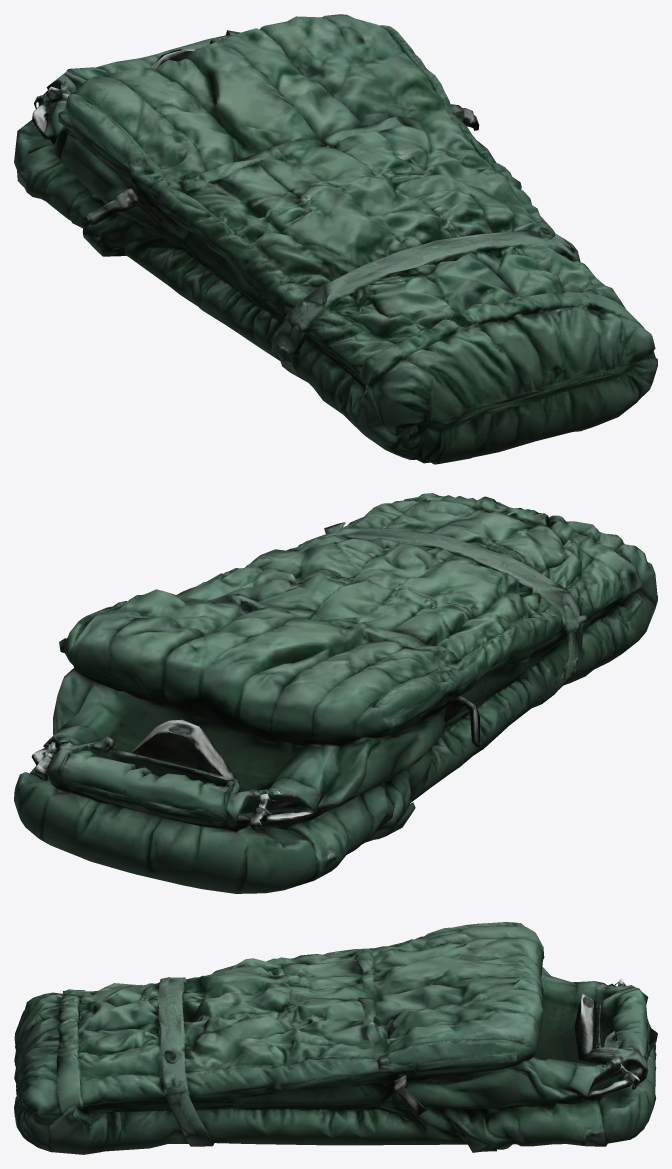
The model's file is sleeping-bag.glb.
The picture shows the model from 3 angles, top to bottom: view 1: azimuth 30°, elevation 25°; view 2: azimuth 150°, elevation 25°; view 3: azimuth 270°, elevation 25°; orthographic projection. The views are drawn at different scales.
Visible parts, largest first — view 1: node_b35f26c7-6c59-4eba-bc4c-ee1f369184f0; view 2: node_b35f26c7-6c59-4eba-bc4c-ee1f369184f0; view 3: node_b35f26c7-6c59-4eba-bc4c-ee1f369184f0.
Part boxes in pixels (<box>): node_b35f26c7-6c59-4eba-bc4c-ee1f369184f0: <box>14,14,657,464</box>; node_b35f26c7-6c59-4eba-bc4c-ee1f369184f0: <box>14,493,657,893</box>; node_b35f26c7-6c59-4eba-bc4c-ee1f369184f0: <box>14,922,657,1154</box>.
Size of the model in its own units: 0.549 by 0.2617 by 0.9774.
Materials: 1 (1 with a texture image).
